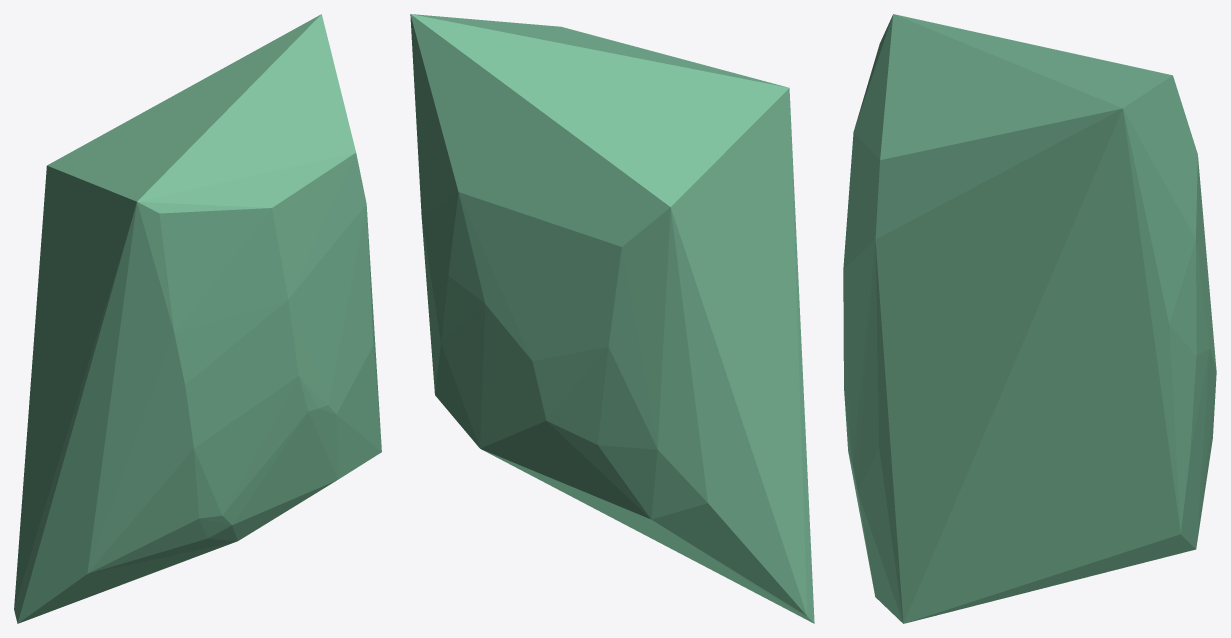
File: food_processed_chips_o01.glb
3 renders of one model, left to right at view 1: azimuth 30°, elevation 25°; view 2: azimuth 150°, elevation 25°; view 3: azimuth 270°, elevation 25°, orthographic. The views are drawn at different scales.
Parts seen in each view (by area): view 1: geometry_0; view 2: geometry_0; view 3: geometry_0.
Boxes of the visible parts, bbox=[...] form: geometry_0: bbox=[14, 14, 381, 623]; geometry_0: bbox=[410, 14, 814, 623]; geometry_0: bbox=[843, 14, 1216, 623].
Size of the model in its own units: 0.2848 by 0.4051 by 0.1944.
